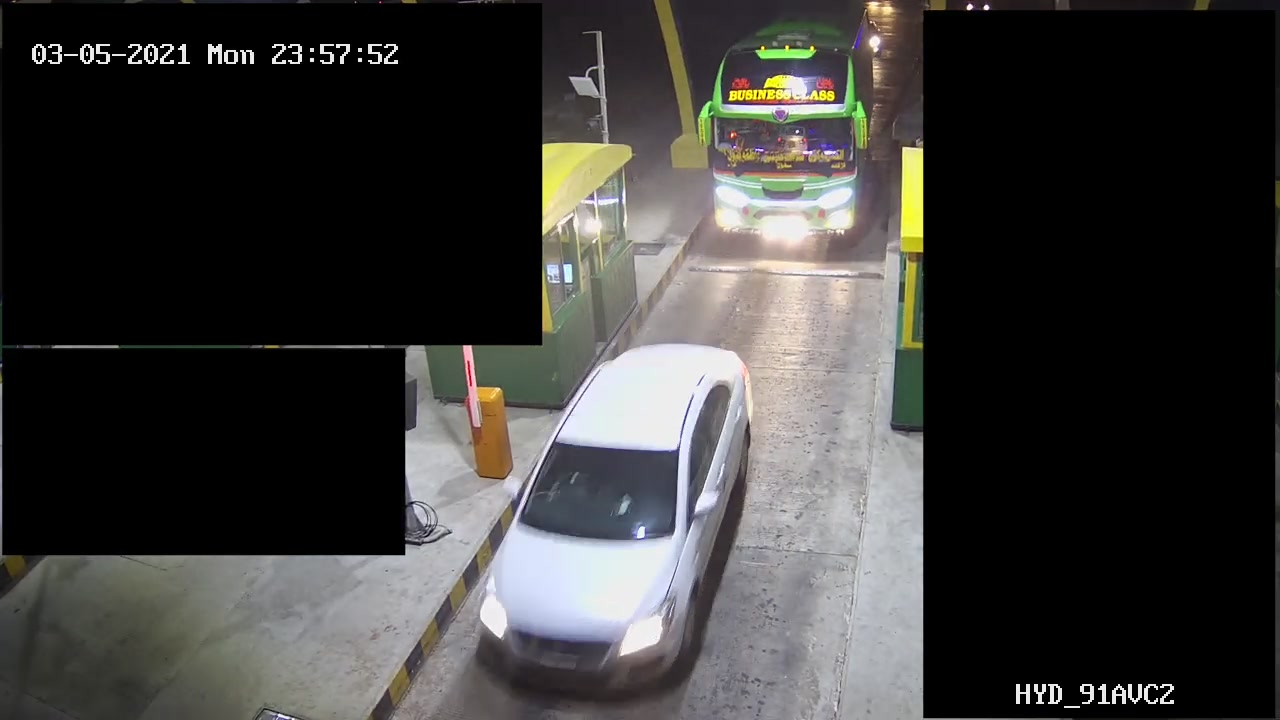F1: (469, 330, 788, 698)
F4: (698, 1, 890, 262)
